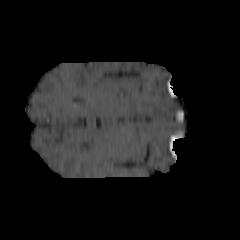glioma: (77, 77, 166, 134)
